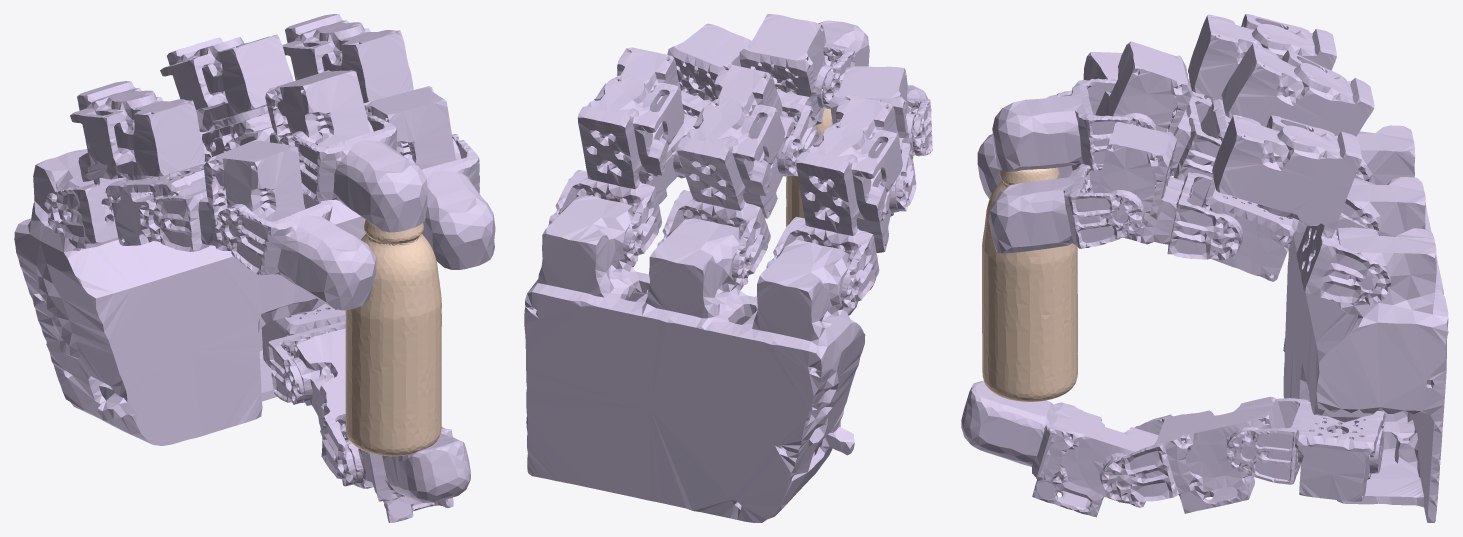
The picture shows the model from 3 angles, left to right: view 1: azimuth 30°, elevation 25°; view 2: azimuth 150°, elevation 25°; view 3: azimuth 270°, elevation 25°; orthographic projection. The views are drawn at different scales.
Parts seen in each view (by area): view 1: LEAP_hand, world; view 2: LEAP_hand, world; view 3: LEAP_hand, world.
Part boxes in pixels (left/top/right/bottom): LEAP_hand: left=14, top=14, right=495, bottom=522; world: left=345, top=219, right=441, bottom=456; LEAP_hand: left=524, top=14, right=932, bottom=522; world: left=786, top=108, right=874, bottom=290; LEAP_hand: left=961, top=14, right=1448, bottom=522; world: left=982, top=167, right=1077, bottom=401.
Bounding box in the file's own units: 0.1284 × 0.1683 × 0.1737.
